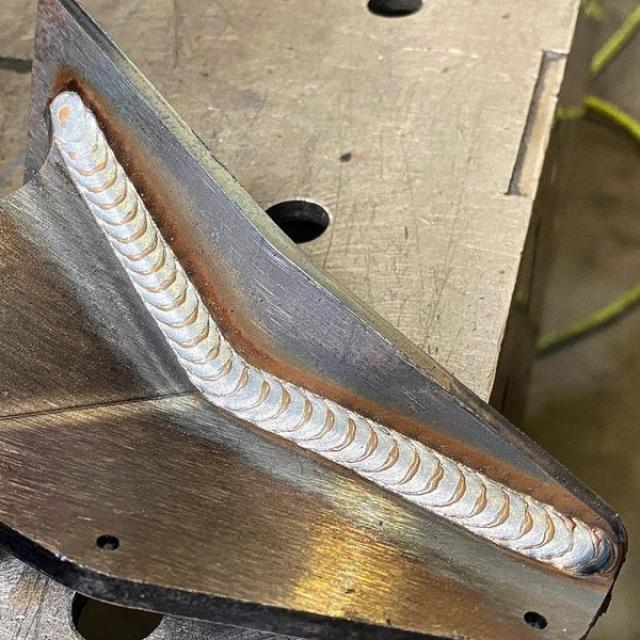Good Welding: (51, 91, 611, 574)
